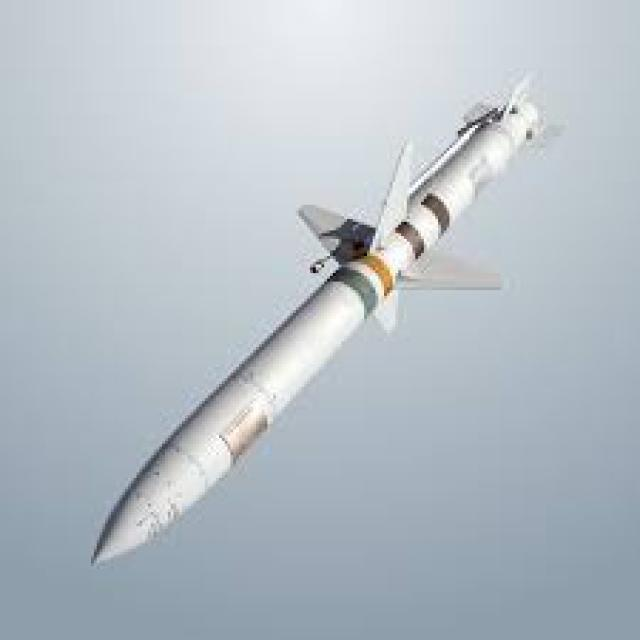missile: (93, 73, 564, 570)
